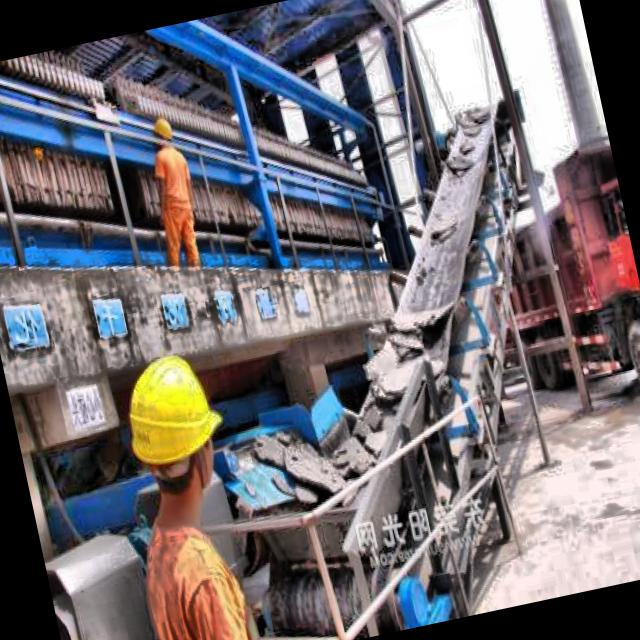helmet: (110, 334, 247, 518), (143, 109, 180, 158)
